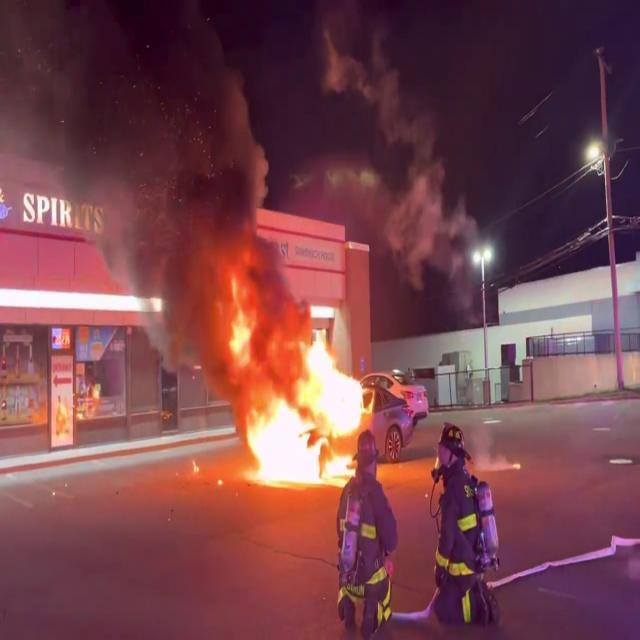Fire: (238, 310, 372, 488)
Smoke: (0, 2, 291, 317)
